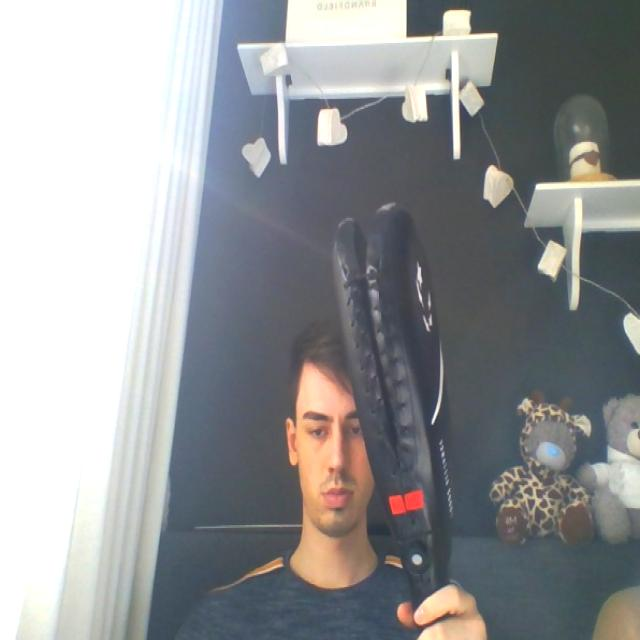paddle: (331, 197, 452, 611)
